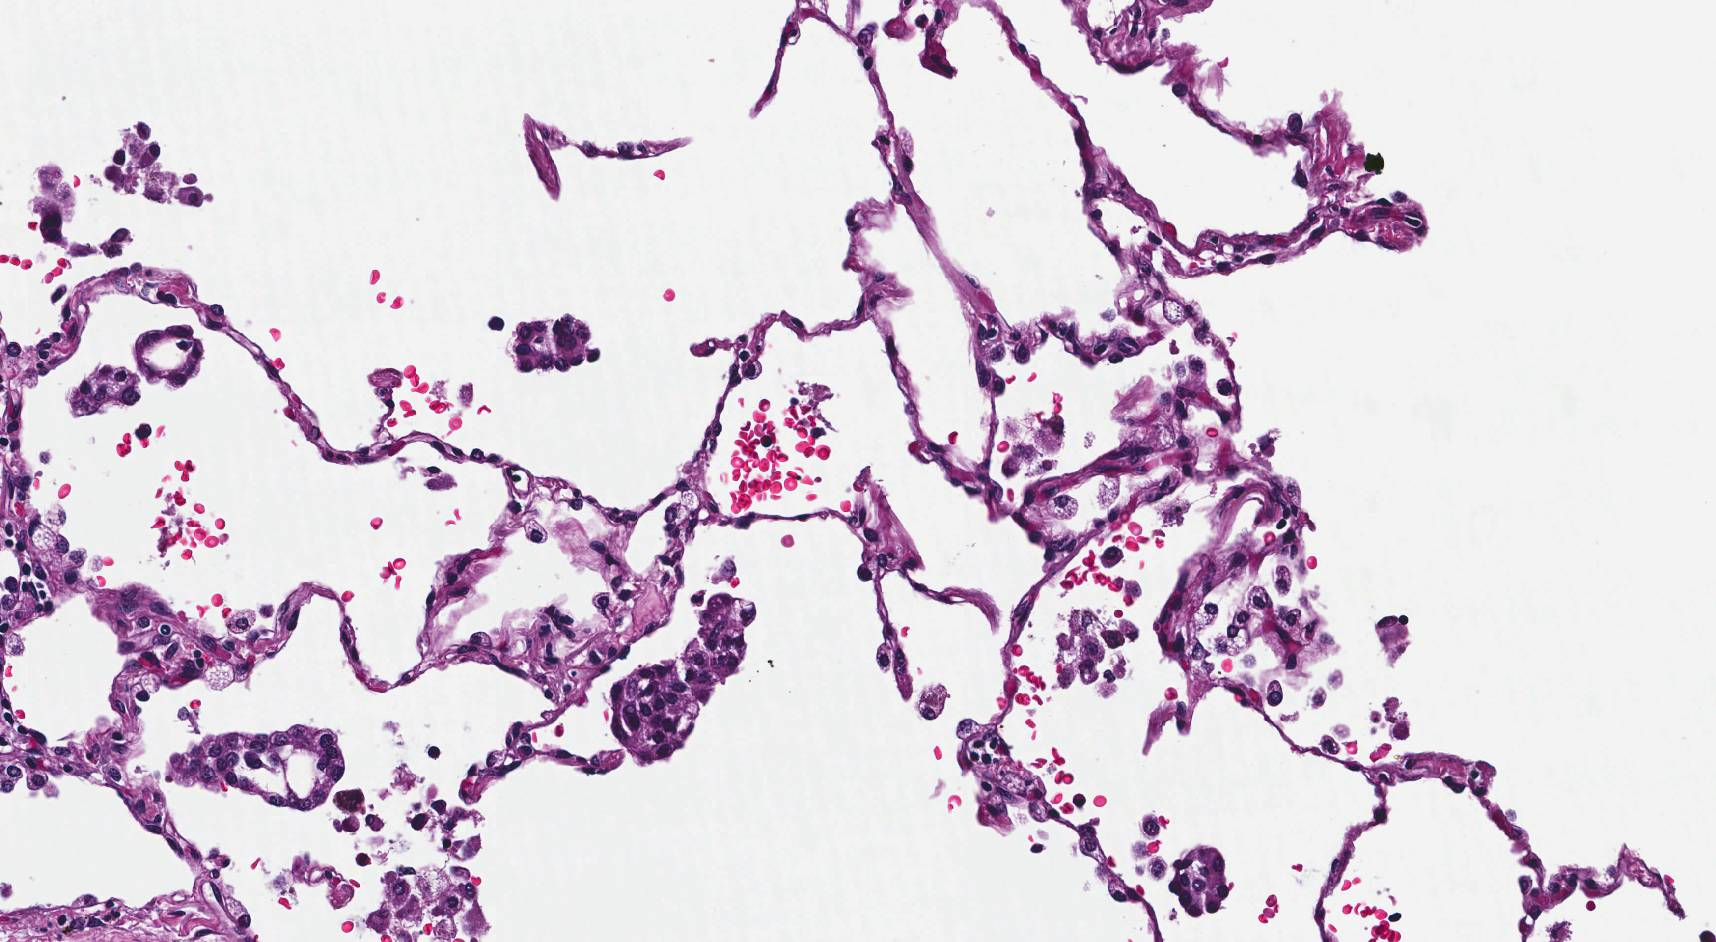stas: (609, 592, 757, 767), (165, 725, 345, 811), (508, 317, 602, 374), (1168, 846, 1233, 918), (132, 325, 206, 387)
